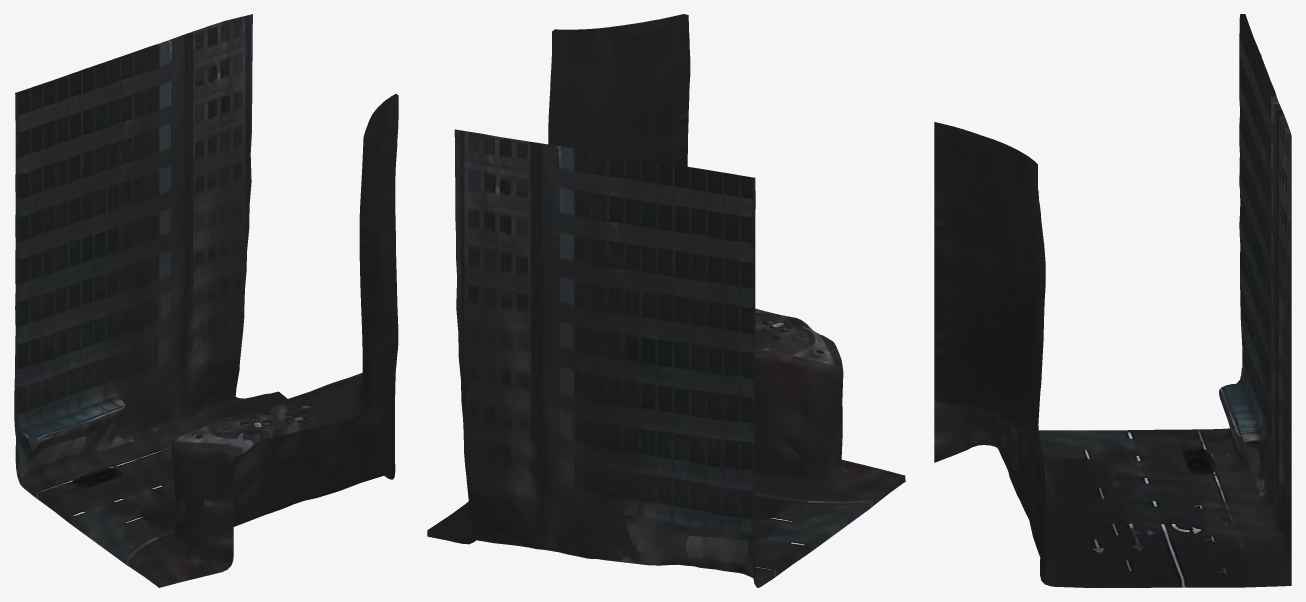
Rendered from z20-167776-405233-h0-yup-uvflip-v3-world.glb.
3 renders of one model, left to right at view 1: azimuth 30°, elevation 25°; view 2: azimuth 150°, elevation 25°; view 3: azimuth 270°, elevation 25°, orthographic. The views are drawn at different scales.
Size of the model in its own units: 30.2 by 39.64 by 30.32.
Materials: 1 (1 with a texture image).
